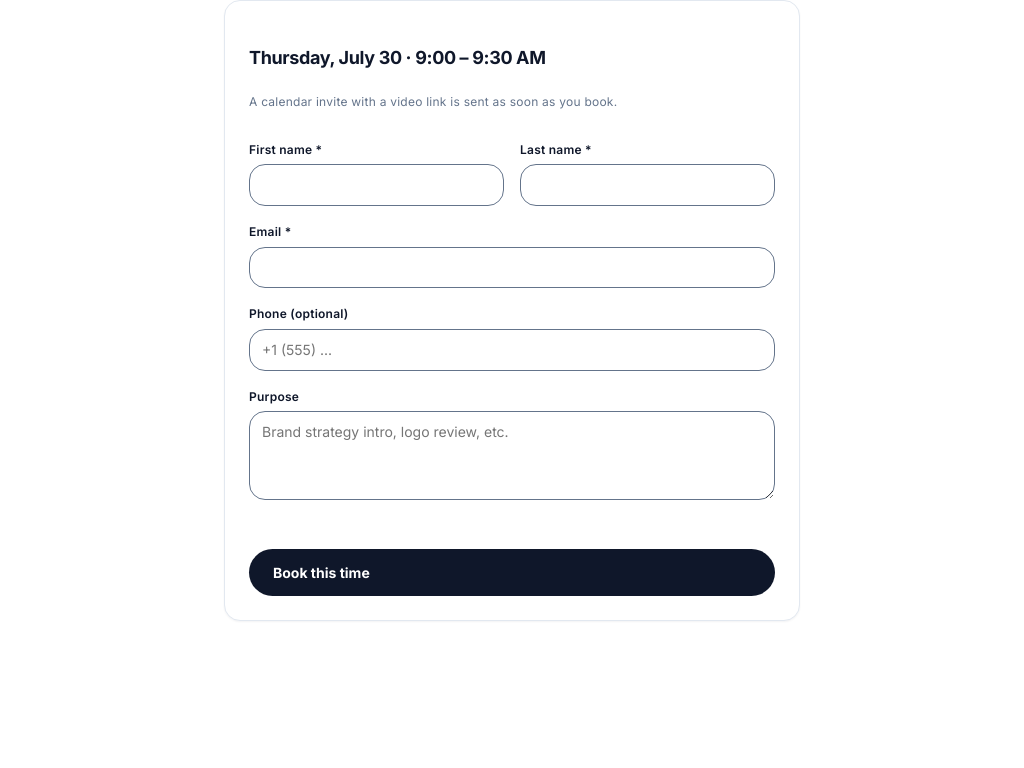
Test case: BookingForm — first_name, last_name, email, phone, purpose + Turnstile widget › should provide download button for calendar invite (.ics) after success
# Fill form using fireEvent to trigger React onChange
Type "Jane" into the field labelled "First name *" at (376, 185), box top-left (249, 164), bottom-right (504, 206)
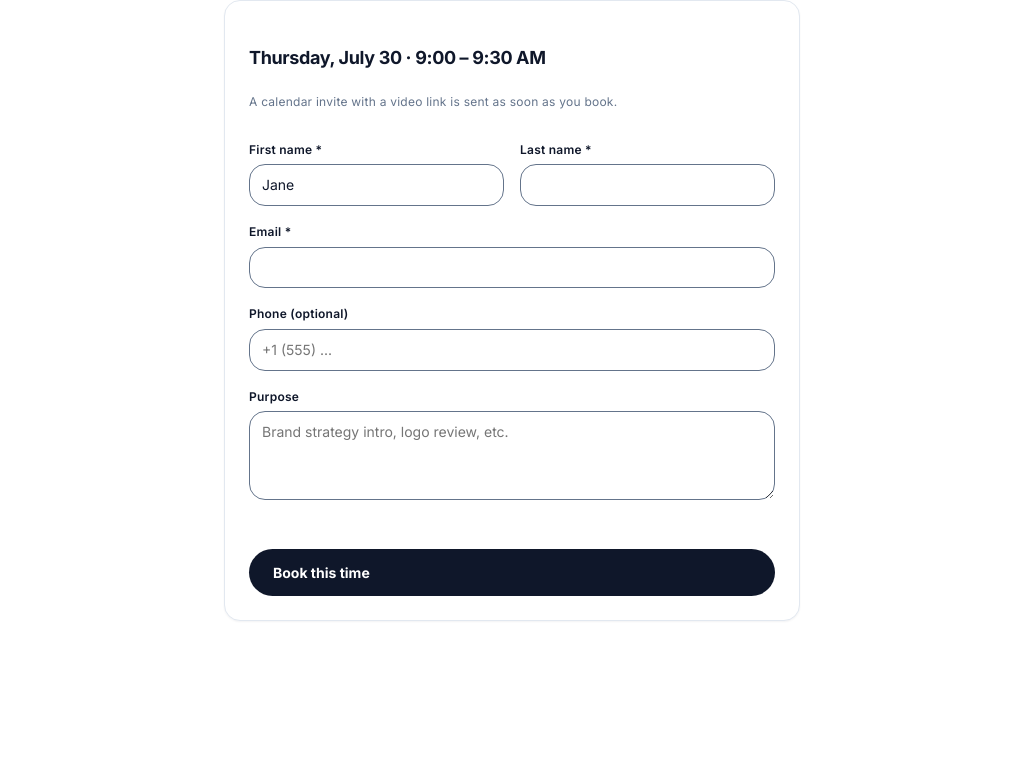
Type "Doe" into the field labelled "Last name *" at (648, 185), box top-left (520, 164), bottom-right (775, 206)
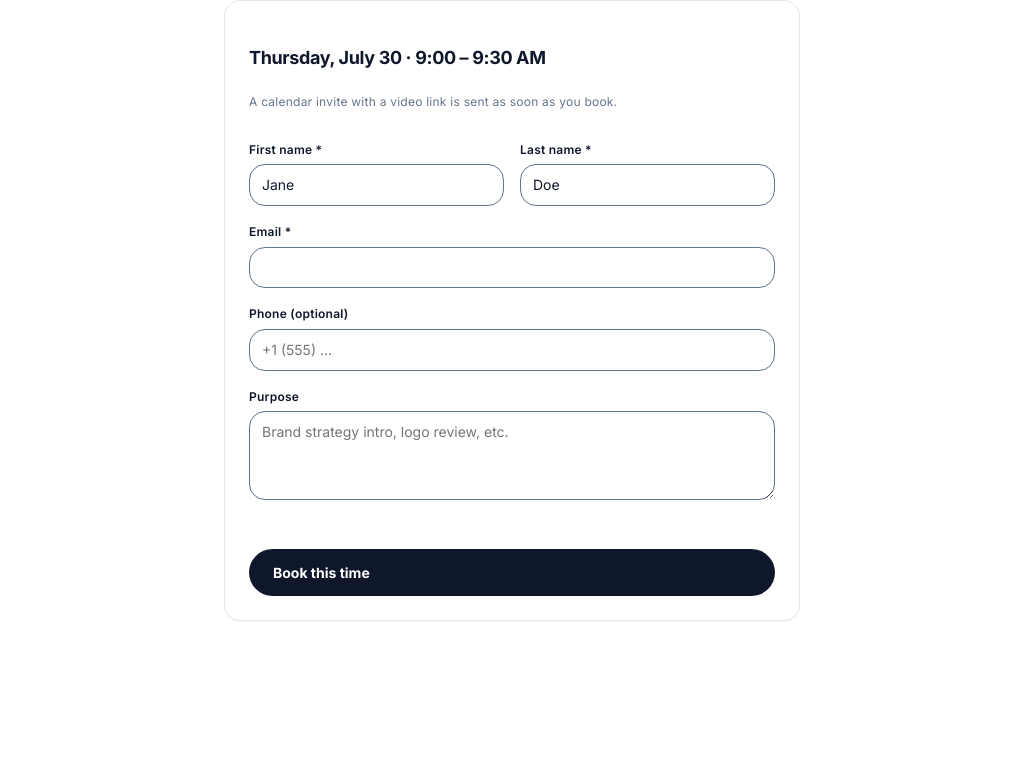
Type "jane@example.com" into the field labelled "Email *" at (512, 268), box top-left (249, 247), bottom-right (775, 288)
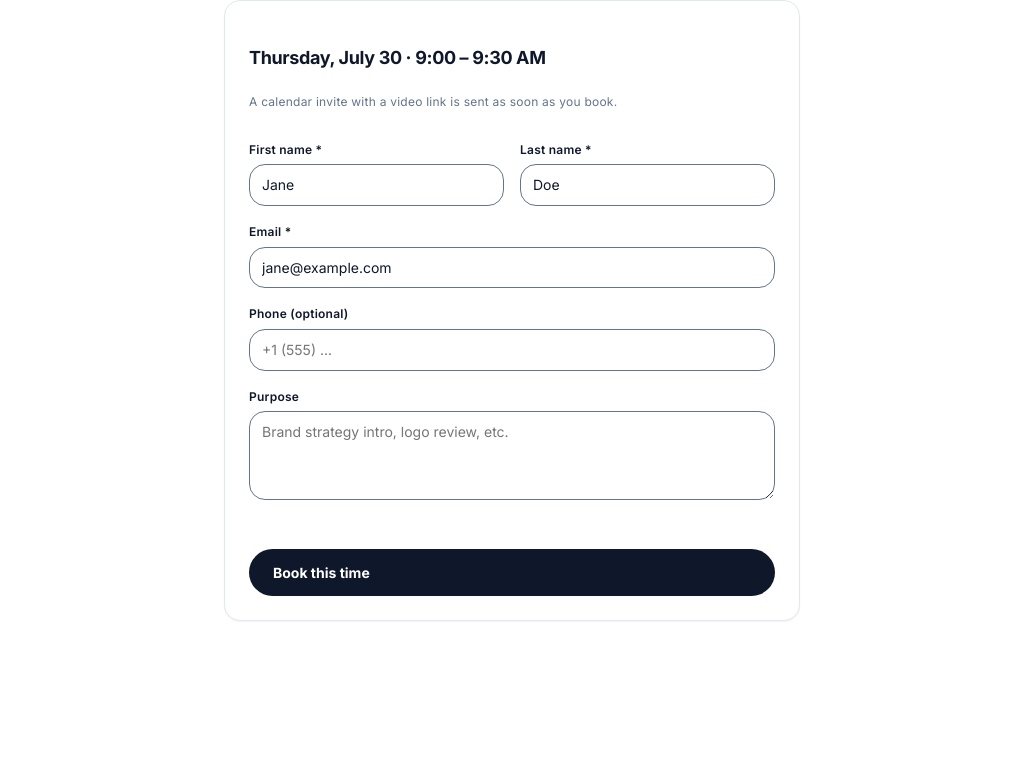
Click the button "Book this time" at (321, 572), box top-left (249, 548), bottom-right (775, 596)
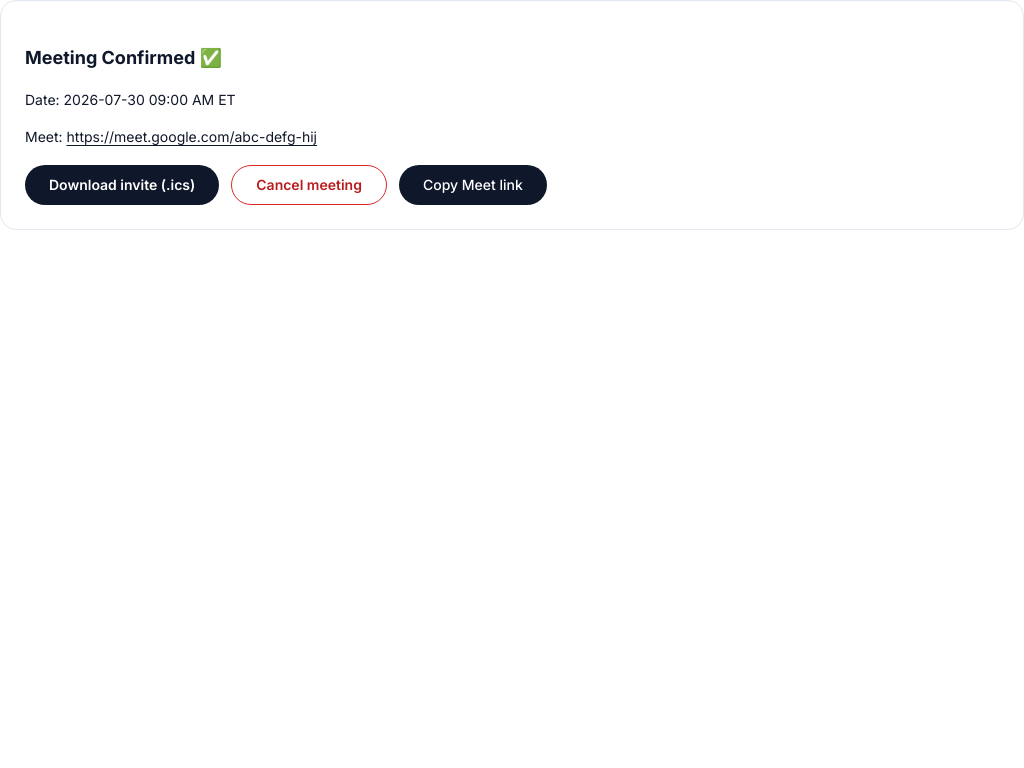
Expected: the heading "Meeting Confirmed ✅" is shown, top-left (25, 47), bottom-right (222, 68)
Expected: the button "Download invite (.ics)" is shown, top-left (25, 165), bottom-right (219, 205)
